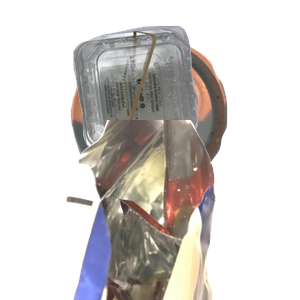glass: (94, 184, 253, 300)
metal: (68, 31, 288, 211)
plastic: (71, 23, 300, 169)
trash: (63, 120, 300, 300)
